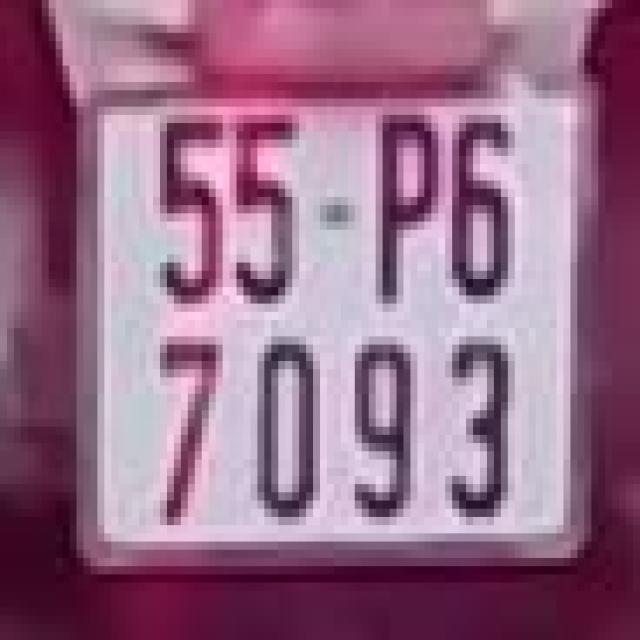0: (240, 328, 330, 525)
3: (438, 324, 529, 538)
5: (146, 115, 230, 312), (226, 106, 303, 312)
6: (445, 102, 522, 308)
7: (143, 328, 226, 534)
9: (341, 328, 424, 525)
P: (358, 98, 442, 320)
